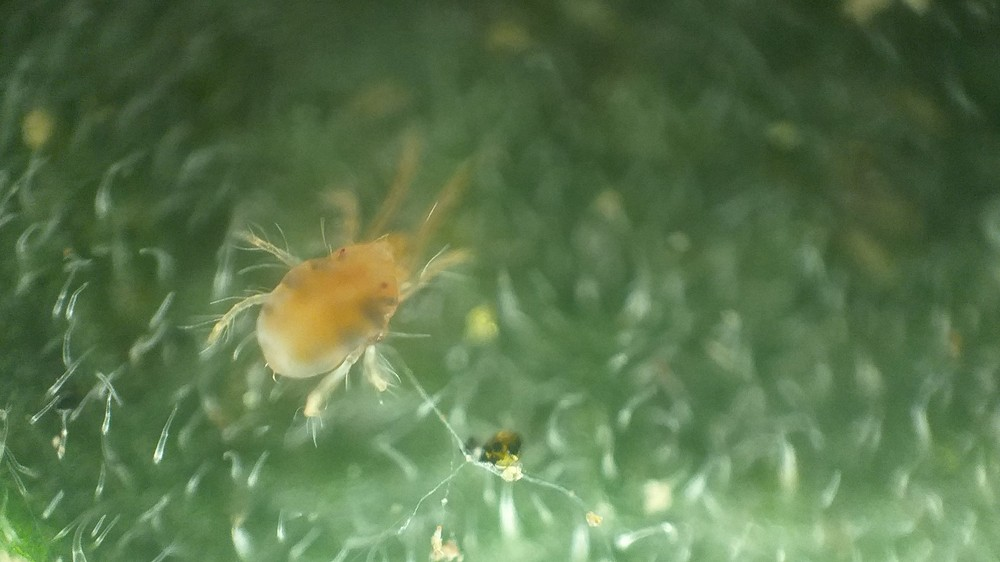Aracnido Rojo: (197, 139, 499, 431)
